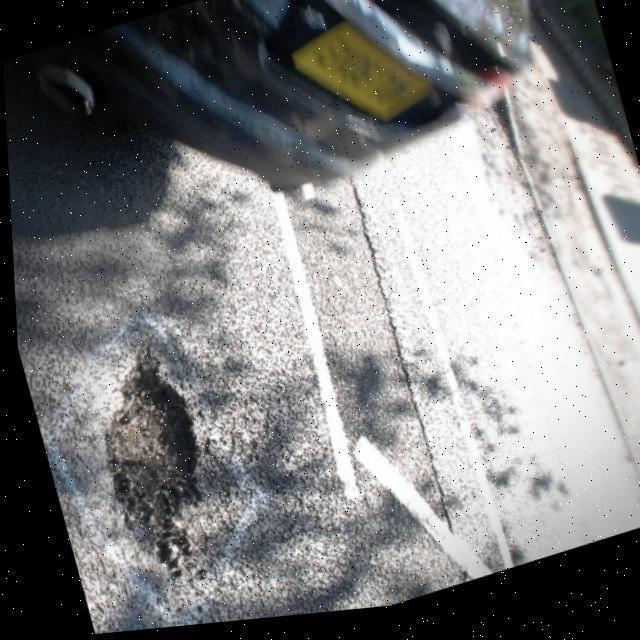Pothole: (105, 352, 204, 585)
